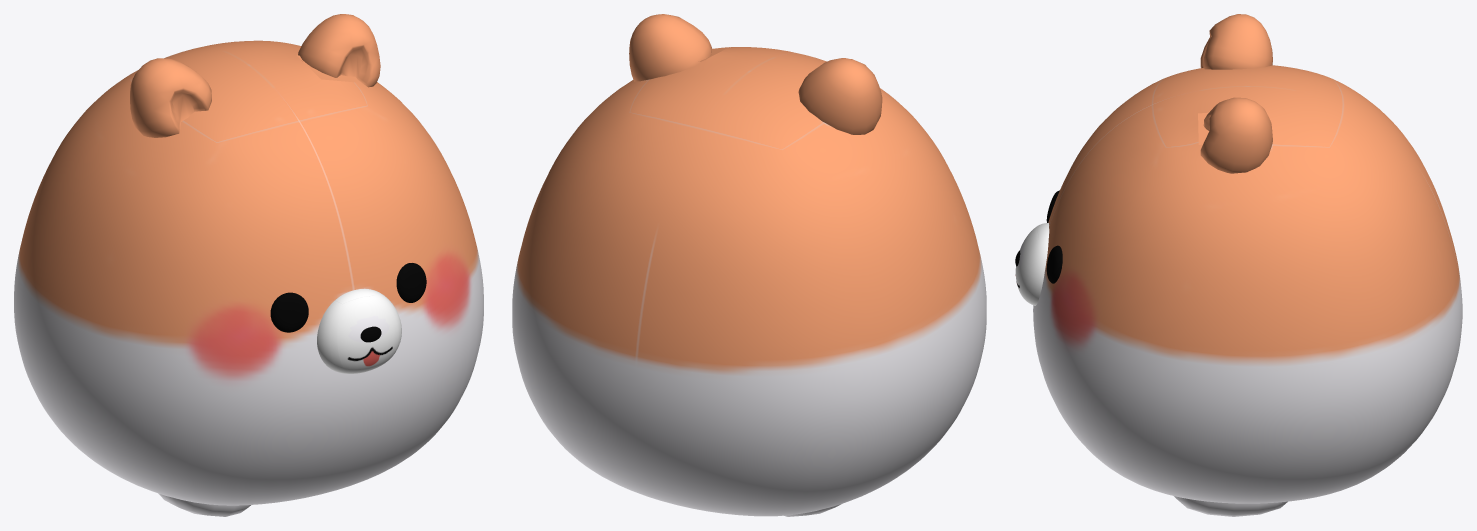
The model's file is pomeranian-boo-cute-plush-toy-4fb785.glb.
3 views of the same model, side by side, from view 1: azimuth 30°, elevation 25°; view 2: azimuth 150°, elevation 25°; view 3: azimuth 270°, elevation 25° (orthographic). The views are drawn at different scales.
Parts seen in each view (by area): view 1: PropMesh; view 2: PropMesh; view 3: PropMesh.
Boxes of the visible parts, bbox=[...] form: PropMesh: bbox=[14, 14, 483, 516]; PropMesh: bbox=[512, 14, 986, 516]; PropMesh: bbox=[1015, 14, 1462, 516].
Bounding box in the file's own units: 0.327 × 0.35 × 0.331.
Materials: 4 (3 with a texture image).
